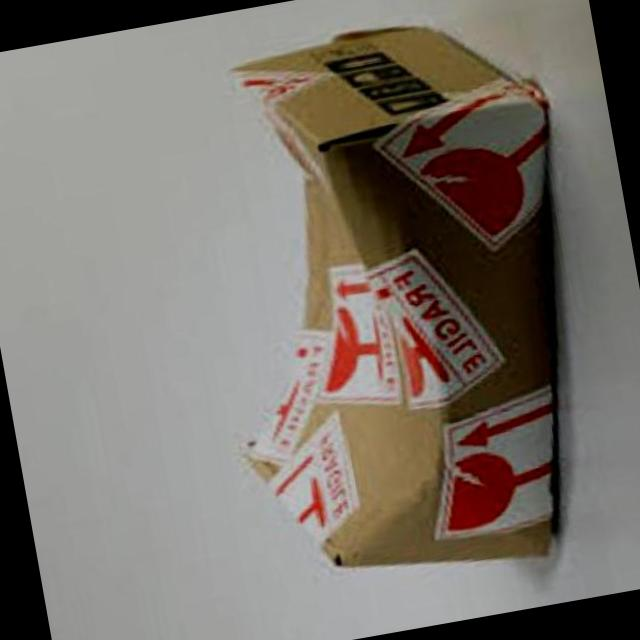box: (1, 1, 639, 639)
